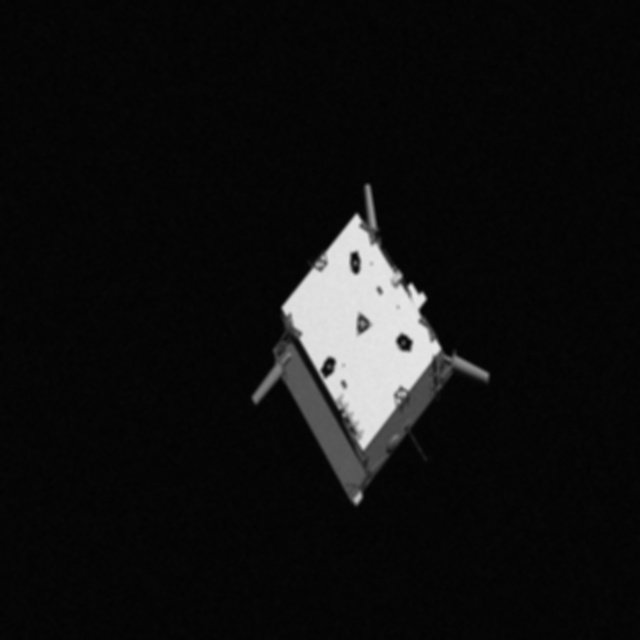medium_debris: (240, 182, 492, 518)
